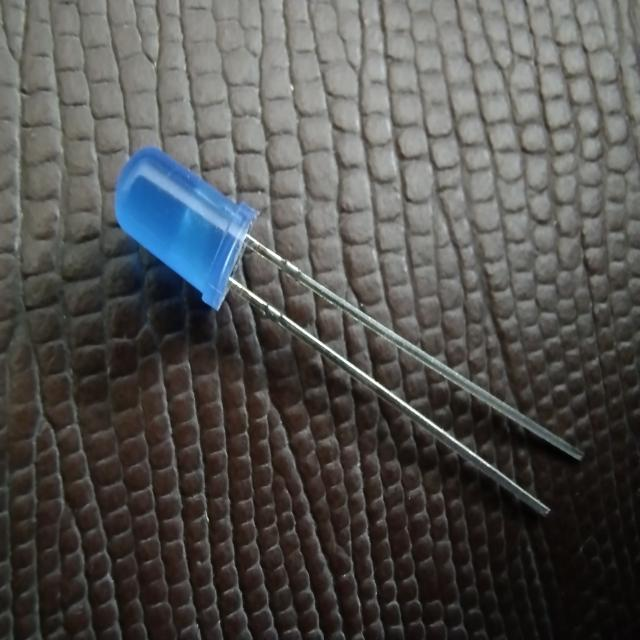blue_led: (113, 144, 260, 312)
